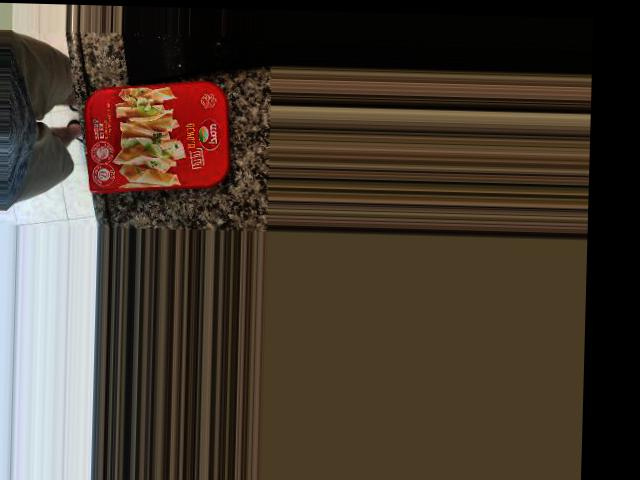cheese: (53, 56, 215, 182)
